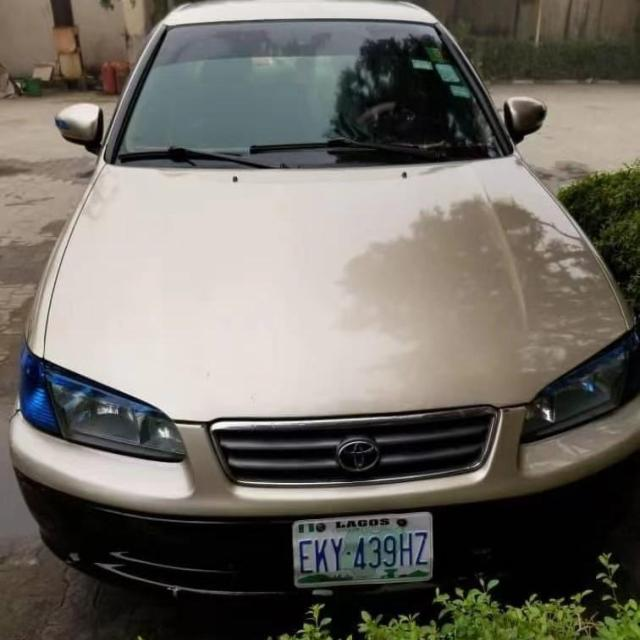Nigerian License Plate - vdataset benjamin-daria: (292, 513, 434, 591)
